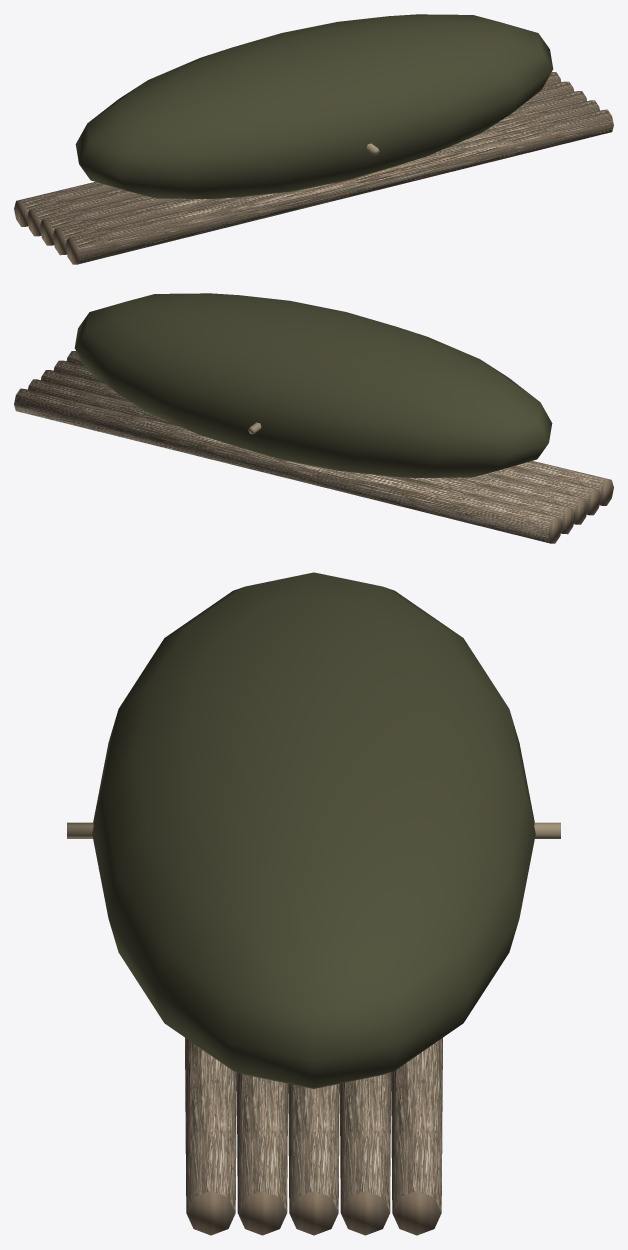
File: SM_Item_leaf_bed_kit.gltf
3 renders of one model, top to bottom at view 1: azimuth 30°, elevation 25°; view 2: azimuth 150°, elevation 25°; view 3: azimuth 270°, elevation 25°, orthographic. The views are drawn at different scales.
Visible parts, largest first — view 1: SM_Item_leaf_bed_kit; view 2: SM_Item_leaf_bed_kit; view 3: SM_Item_leaf_bed_kit.
Part boxes in pixels (box(x1,y1,x2,y2)): SM_Item_leaf_bed_kit: box(14, 14, 613, 264); SM_Item_leaf_bed_kit: box(14, 293, 613, 543); SM_Item_leaf_bed_kit: box(67, 572, 560, 1235).
Bounding box in the file's own units: 0.6 × 0.145 × 0.24.
Materials: 3 (2 with a texture image).
